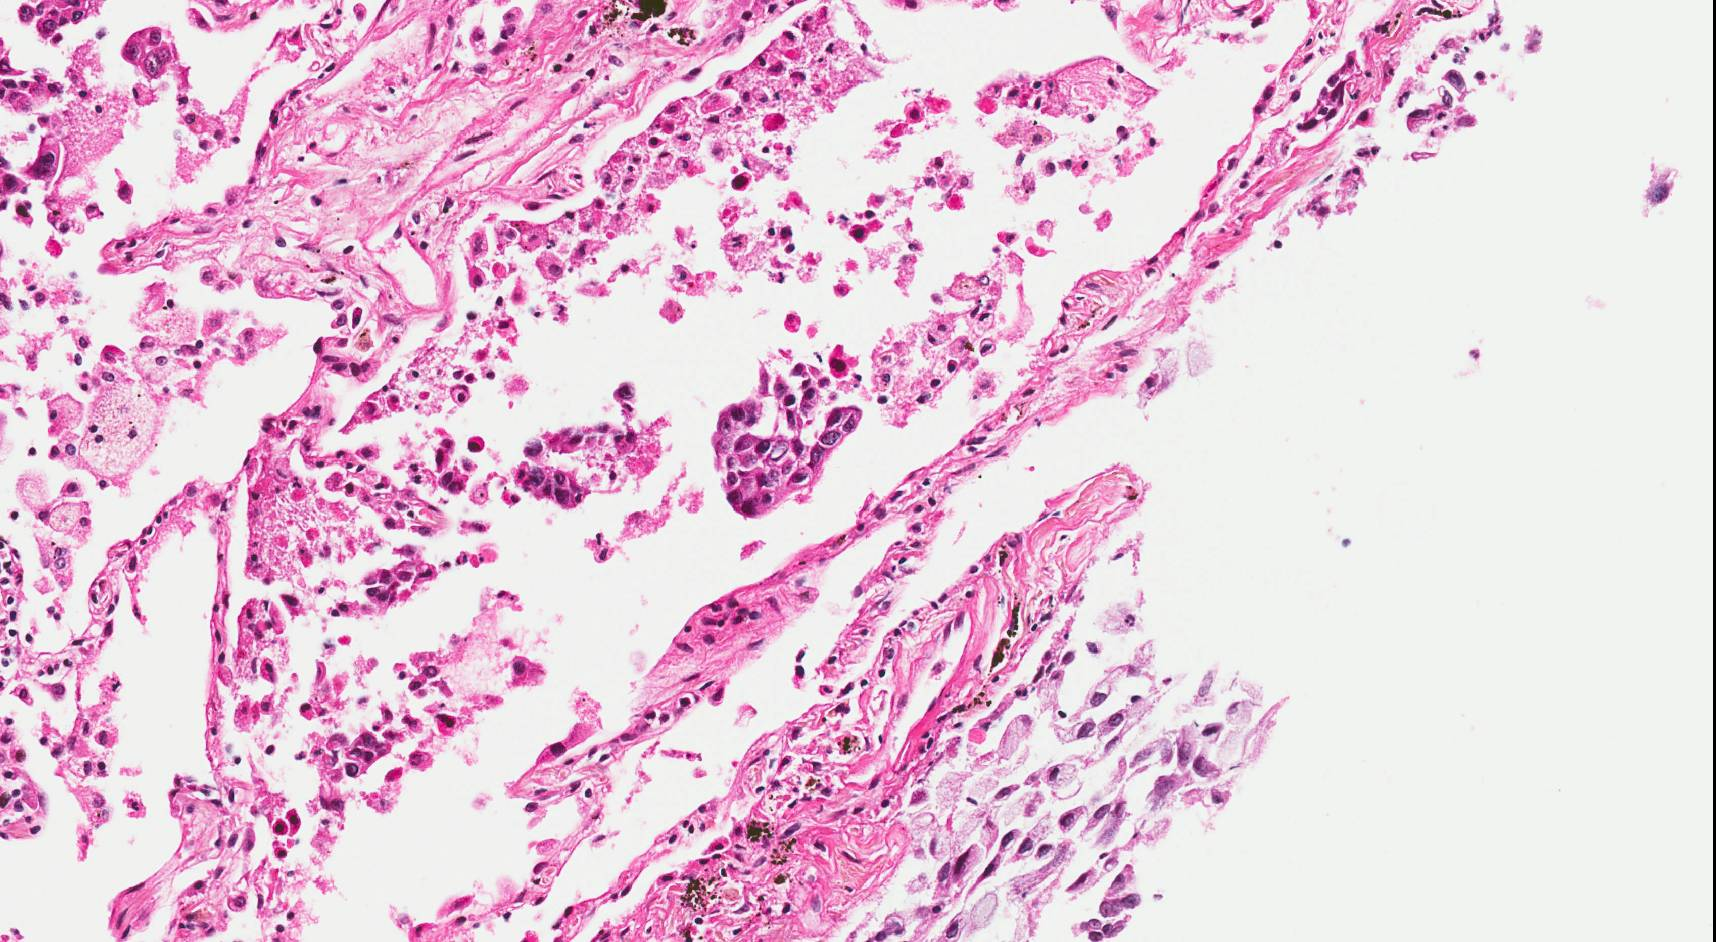stas: (705, 357, 873, 521), (513, 381, 667, 515), (332, 709, 425, 785), (116, 24, 186, 81)
